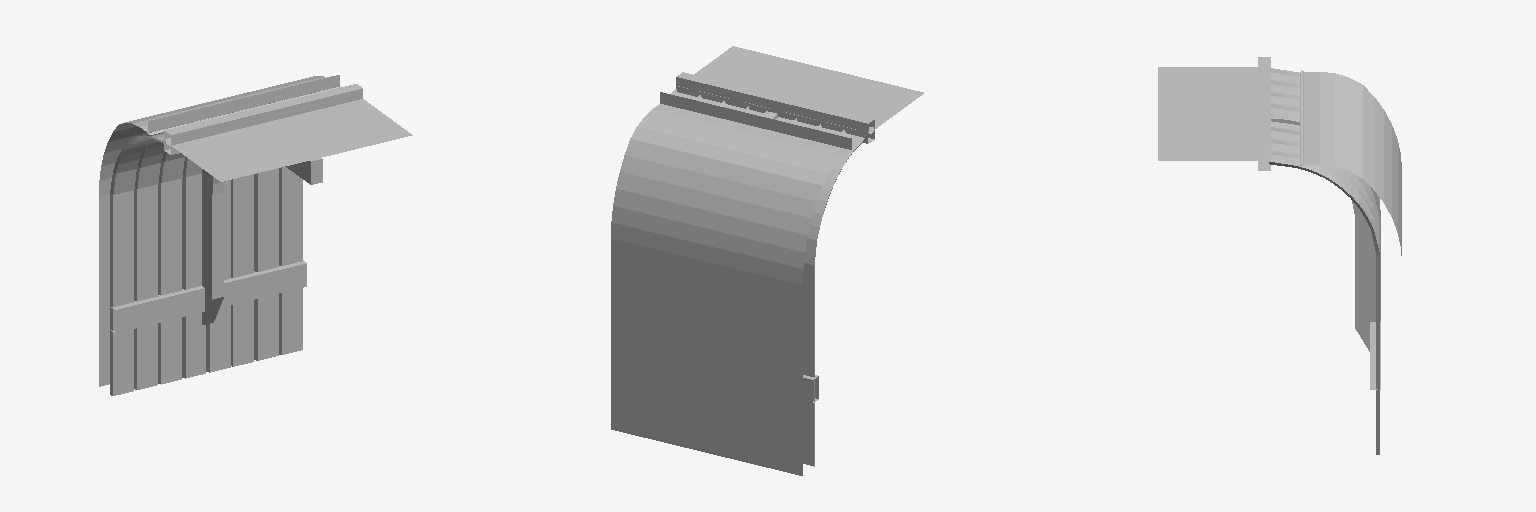
The model's file is Overhang_WoodWear_Long.obj.
3 renders of one model, left to right at view 1: azimuth 30°, elevation 25°; view 2: azimuth 150°, elevation 25°; view 3: azimuth 270°, elevation 25°, orthographic.
Parts seen in each view (by area): view 1: Overhang_WoodWear_Long; view 2: Overhang_WoodWear_Long; view 3: Overhang_WoodWear_Long.
Boxes of the visible parts, box(x1,y1,x2,y2) form: Overhang_WoodWear_Long: box(99, 75, 412, 395); Overhang_WoodWear_Long: box(611, 46, 923, 475); Overhang_WoodWear_Long: box(1158, 57, 1401, 454).
Bounding box in the file's own units: 2 × 3.03 × 2.2.